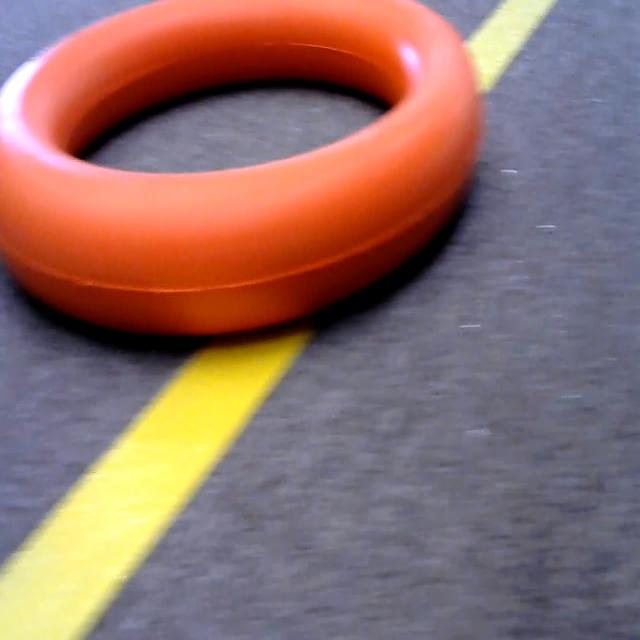note: (0, 0, 498, 345)
